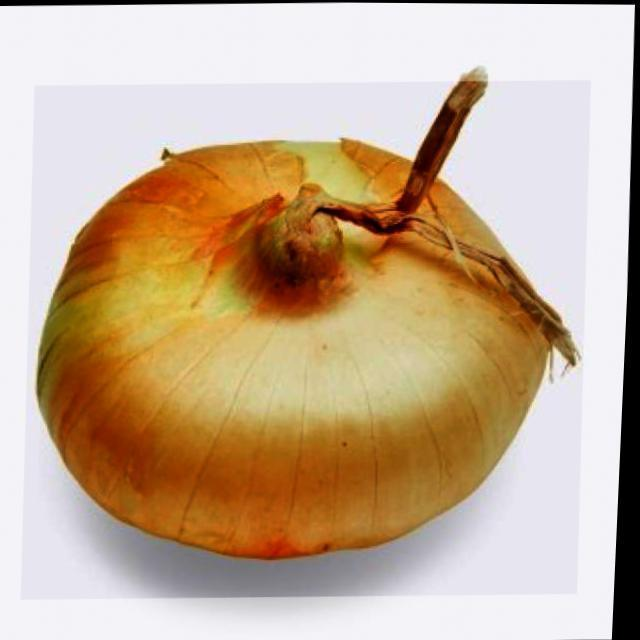Onion: (17, 75, 600, 602)
